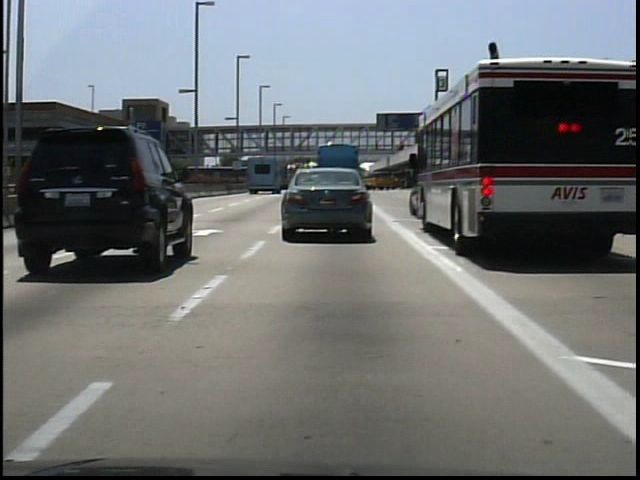person: (396, 136, 409, 157), (372, 137, 385, 157)
